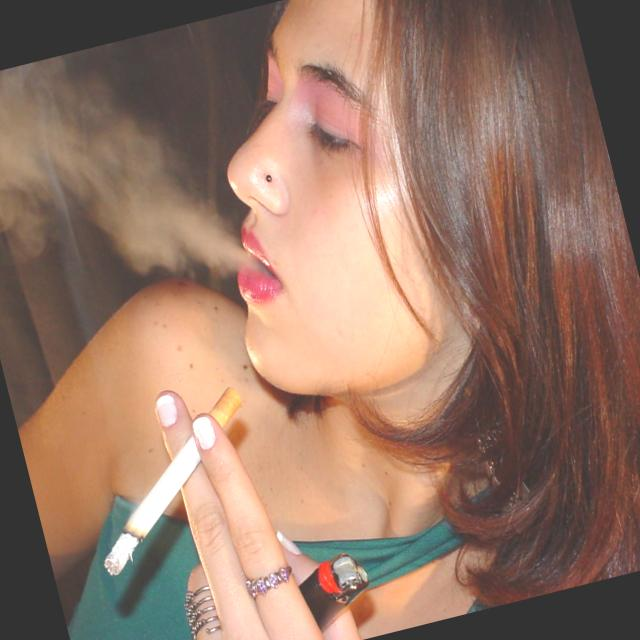cigarette: (63, 382, 280, 580)
